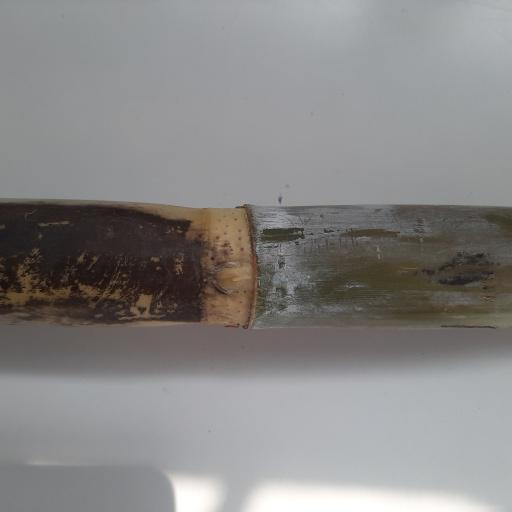Bud: (204, 261, 248, 296)
